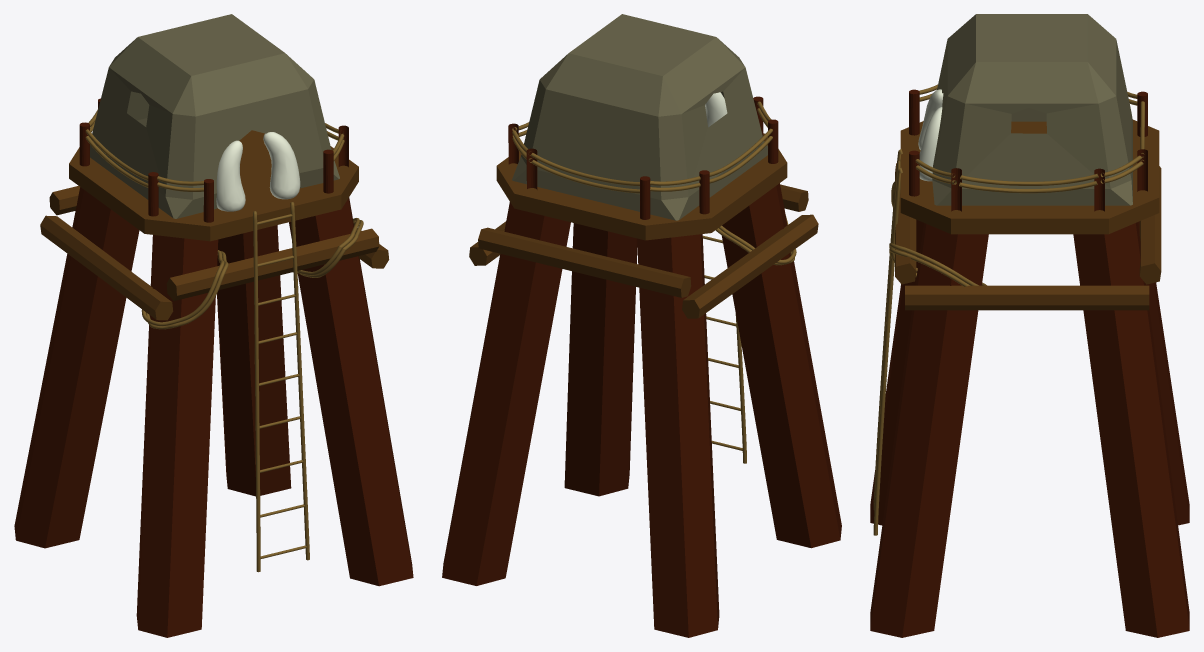
Rendered from _WoodTower.fbx.
3 views of the same model, side by side, from view 1: azimuth 30°, elevation 25°; view 2: azimuth 150°, elevation 25°; view 3: azimuth 270°, elevation 25° (orthographic). The views are drawn at different scales.
Visible parts, largest first — view 1: WoodenTower; view 2: WoodenTower; view 3: WoodenTower.
Boxes of the visible parts, left/top/right/bottom form: WoodenTower: left=14, top=14, right=413, bottom=637; WoodenTower: left=442, top=14, right=841, bottom=637; WoodenTower: left=870, top=14, right=1189, bottom=637.
Size of the model in its own units: 776 by 1371 by 750.
